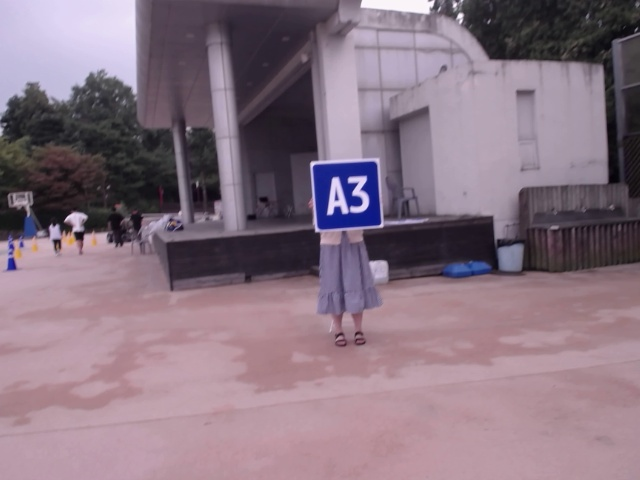delivery_a3: (313, 158, 383, 232)
